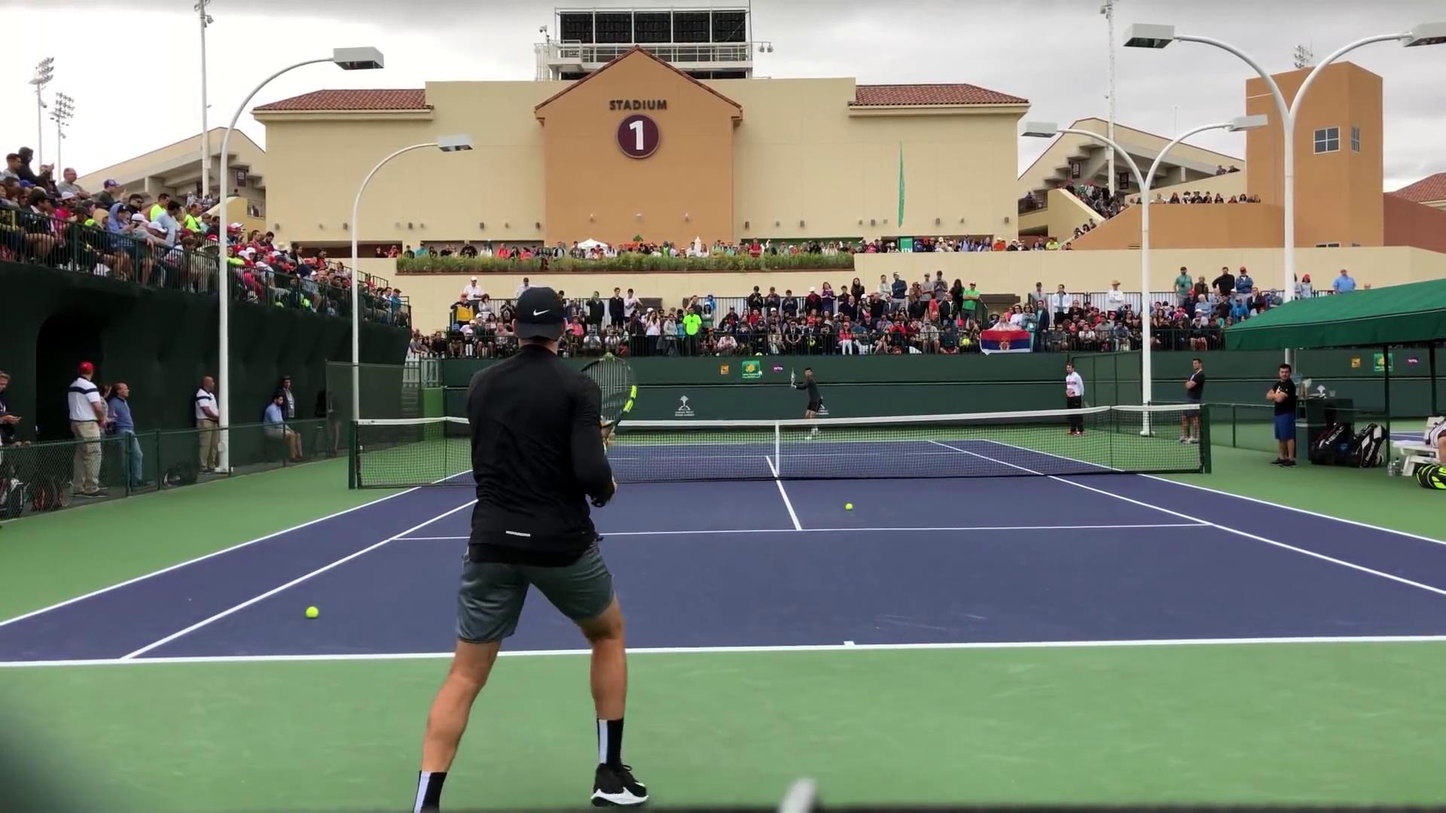ball: (305, 603, 319, 620), (845, 503, 854, 510), (759, 370, 763, 375)
